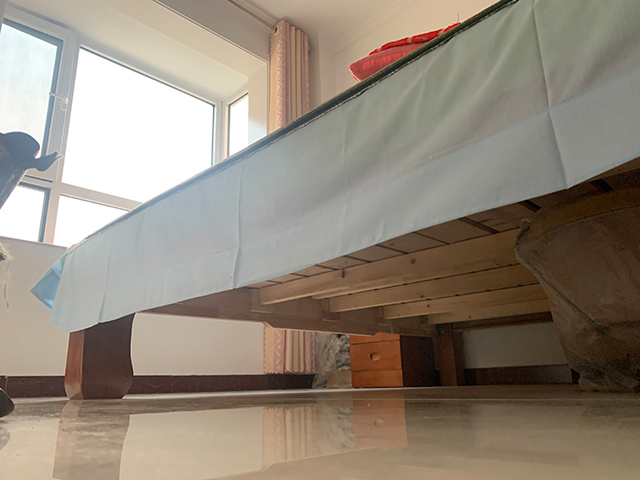bed: (29, 1, 640, 399)
cabinet: (351, 331, 438, 388)
curtain: (263, 19, 315, 376)
